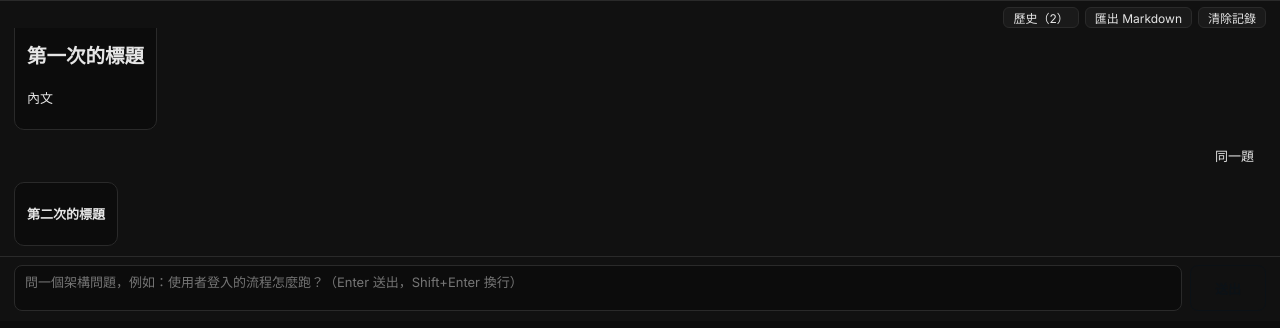
Test: QaPanel › 歷史 › 同一句問題問兩次時，清單用 #序號 和回答第一行區分
(page scrolled)
Click the button "歷史（2）" at (1041, 18), box [1003, 7, 1079, 28]
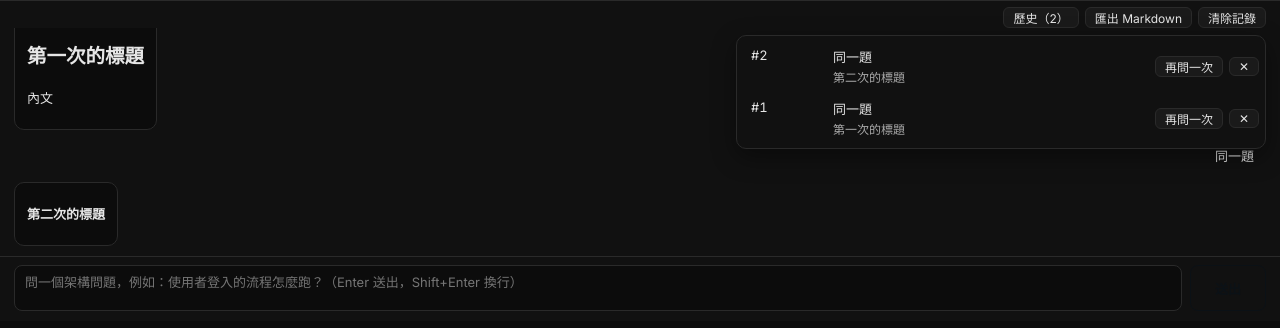
Now the list item "#2 同一題 第二次的標題 再問一次 ✕" is shown, box [741, 40, 1261, 92]
Now the list item "#1 同一題 第一次的標題 再問一次 ✕" is shown, box [741, 92, 1261, 144]
